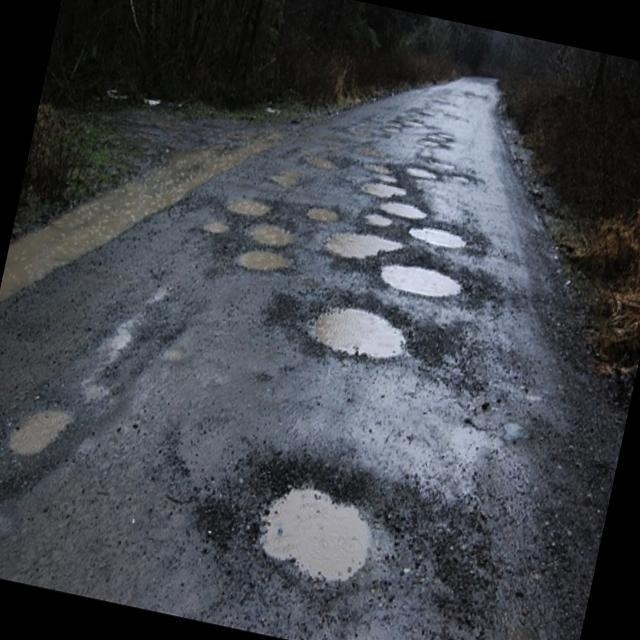pothole: (247, 456, 384, 596), (297, 306, 413, 366), (220, 192, 289, 278), (357, 157, 433, 213), (380, 261, 486, 296), (3, 403, 68, 456), (410, 220, 488, 252), (321, 222, 391, 256)
